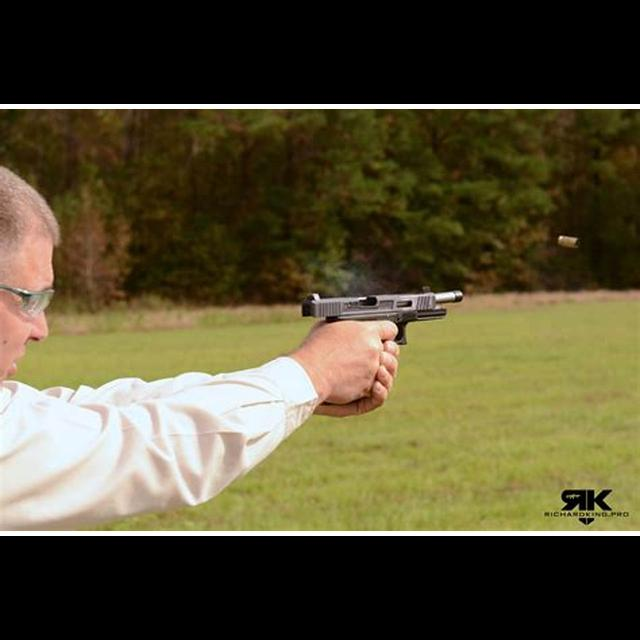handgun: (294, 282, 470, 344)
